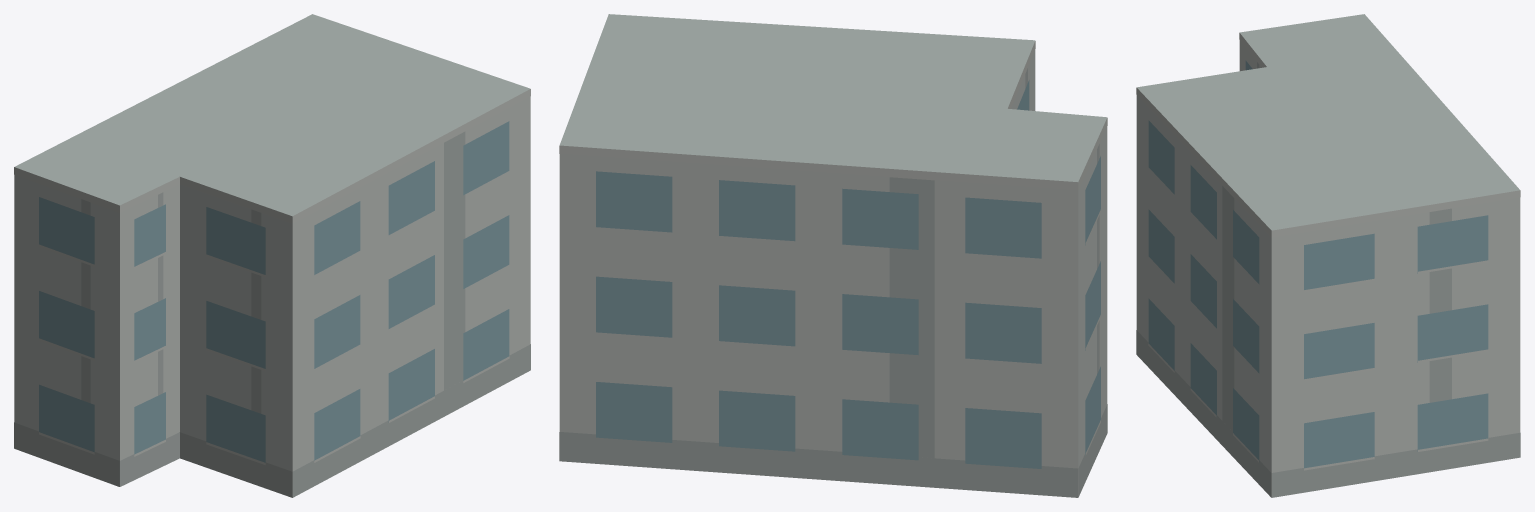
File: survey-upis-32653786.glb
3 renders of one model, left to right at view 1: azimuth 30°, elevation 25°; view 2: azimuth 150°, elevation 25°; view 3: azimuth 270°, elevation 25°, orthographic. The views are drawn at different scales.
Visible parts, largest first — view 1: survey-upis-32653786.tmp; view 2: survey-upis-32653786.tmp; view 3: survey-upis-32653786.tmp.
Part boxes in pixels (x1,y1,x2,y2): survey-upis-32653786.tmp: (14,14,530,497); survey-upis-32653786.tmp: (559,14,1107,497); survey-upis-32653786.tmp: (1136,14,1520,497).
Bounding box in the file's own units: 15.91 × 9.15 × 11.92.
